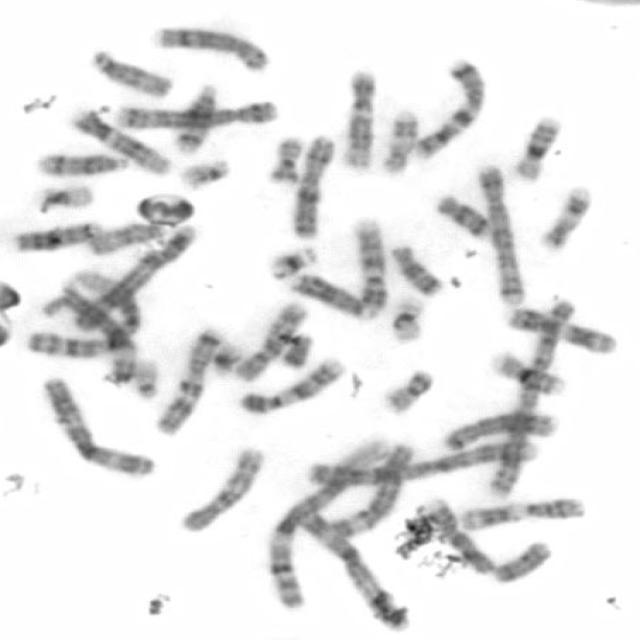A1: (258, 432, 414, 612), (23, 268, 147, 360)
A2: (481, 290, 584, 502), (302, 438, 538, 490)
A3: (292, 504, 410, 632), (34, 370, 160, 479)
B4: (62, 218, 202, 334), (416, 498, 556, 586)
B5: (469, 159, 528, 308), (112, 95, 281, 131)
C10: (174, 440, 268, 536), (227, 296, 311, 384)
C11: (500, 301, 619, 357), (456, 492, 590, 532)
C12: (65, 102, 174, 177), (335, 65, 377, 173)
C6: (52, 269, 140, 389), (314, 435, 414, 540)
C7: (407, 52, 487, 161), (150, 322, 222, 438)
C8: (148, 20, 272, 74), (436, 406, 560, 454)
C9: (233, 350, 350, 416), (345, 212, 390, 318)
D13: (284, 268, 372, 320), (6, 216, 106, 253)
D14: (167, 78, 222, 155), (31, 146, 131, 179)
D15: (85, 43, 175, 98), (80, 216, 170, 257)
E16: (483, 345, 568, 397), (507, 110, 565, 183)
E17: (535, 179, 595, 252), (377, 106, 420, 176)
E18: (430, 188, 494, 240), (387, 241, 447, 296)
F19: (30, 179, 96, 214), (386, 291, 428, 345)
F20: (376, 363, 438, 416), (263, 132, 305, 186)
G21: (261, 240, 321, 281), (206, 337, 246, 379)
G22: (174, 153, 233, 191), (128, 353, 164, 401)
X: (286, 130, 338, 240)
Y: (274, 328, 315, 370)
